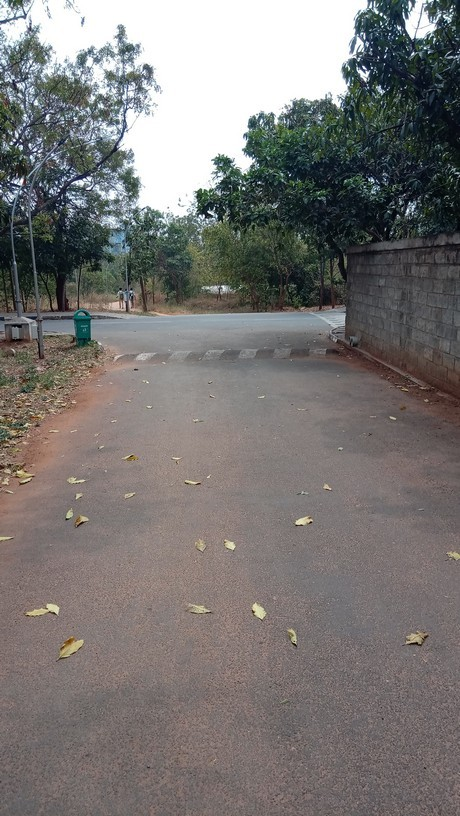bump: (92, 345, 350, 362)
